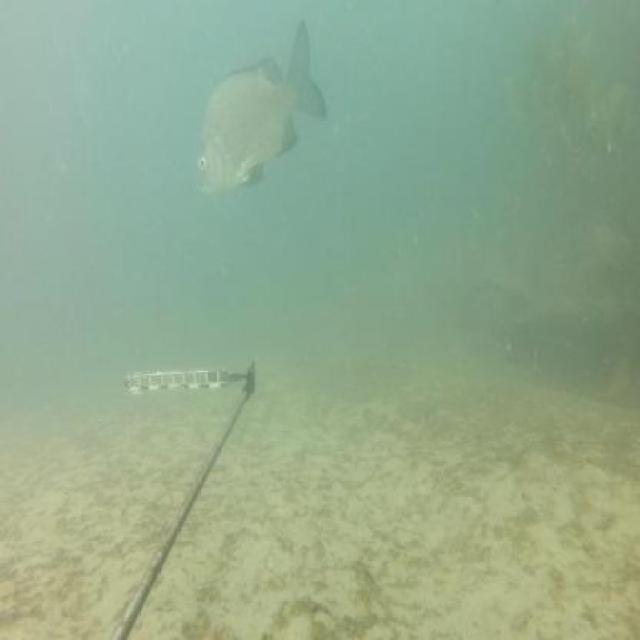acanthopagrus_palmaris: (196, 13, 329, 202)
